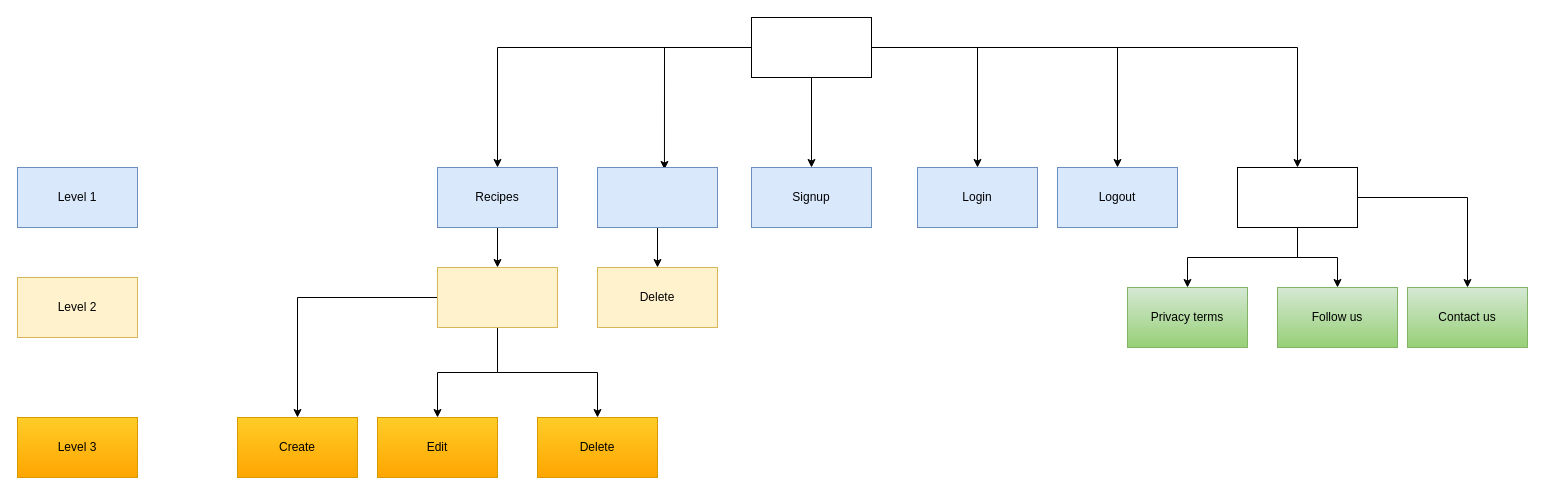
This 1545x495 diagram has some shape labels left out. The shapes that lost their labels are listed below. From the top down, each one's centre as x and y in pixels, then its label:
At point (811, 47): "Home".
At point (657, 197): "Users".
At point (1297, 197): "Footer menu".
At point (497, 297): "List".
